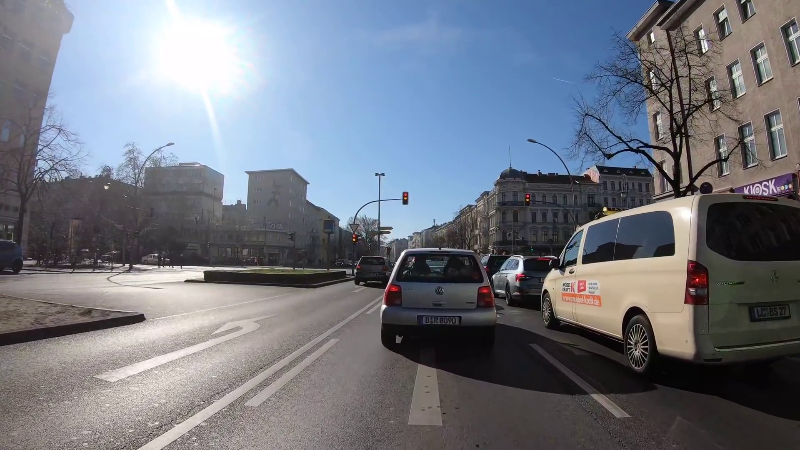Plate: (746, 301, 792, 322), (416, 314, 458, 327)
